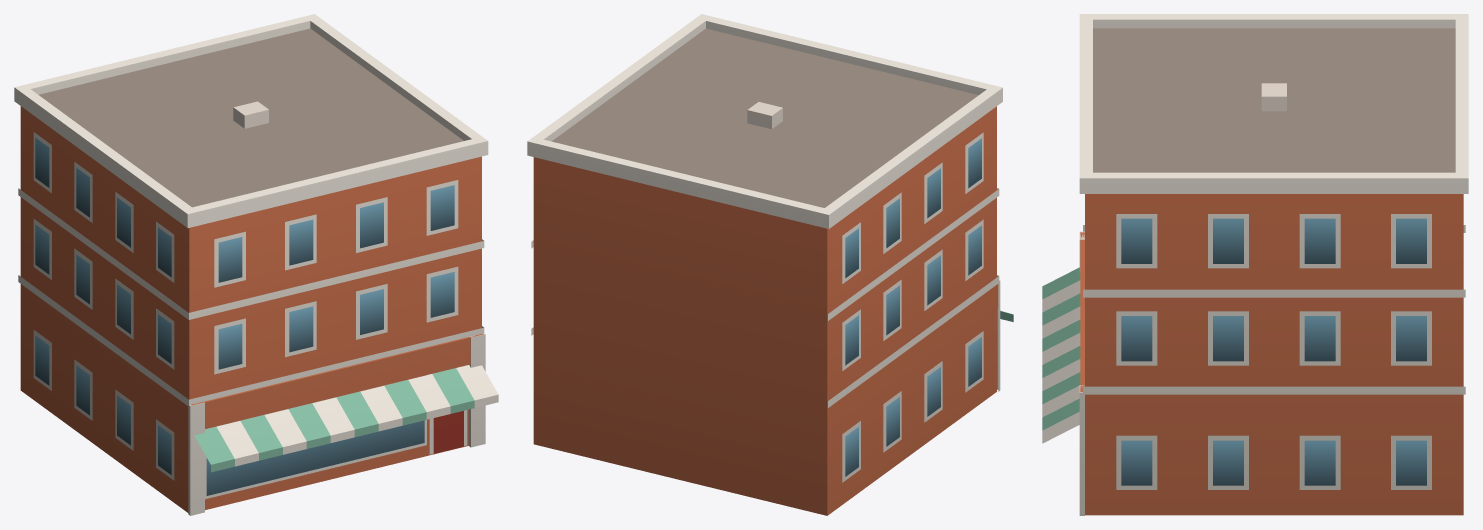
Rendered from vee_right5_far.glb.
3 renders of one model, left to right at view 1: azimuth 30°, elevation 25°; view 2: azimuth 150°, elevation 25°; view 3: azimuth 270°, elevation 25°, orthographic. The views are drawn at different scales.
Parts seen in each view (by area): view 1: vee_right5_far; view 2: vee_right5_far; view 3: vee_right5_far.
Boxes of the visible parts, bbox=[...] form: vee_right5_far: bbox=[14, 14, 498, 515]; vee_right5_far: bbox=[527, 14, 1013, 515]; vee_right5_far: bbox=[1042, 14, 1468, 515].
Size of the model in its own units: 12.32 by 12.07 by 13.51.
Materials: 1 (1 with a texture image).
